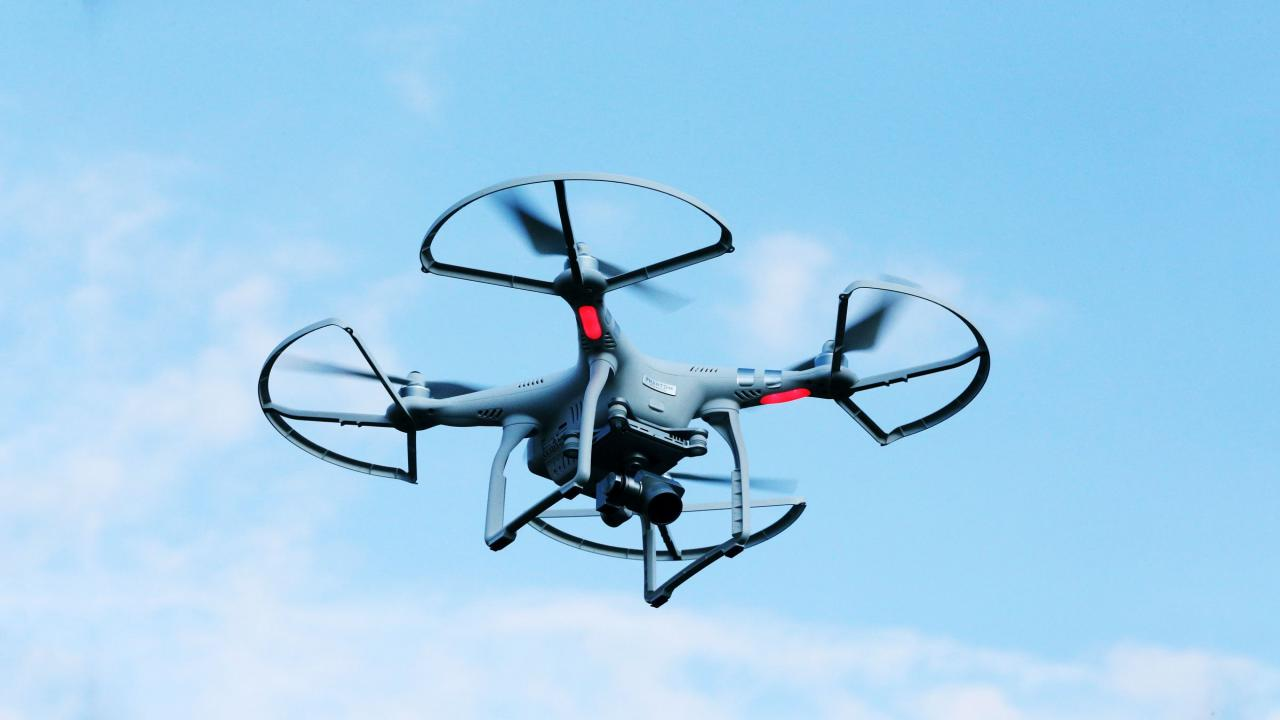Drone: (225, 142, 1015, 635)
